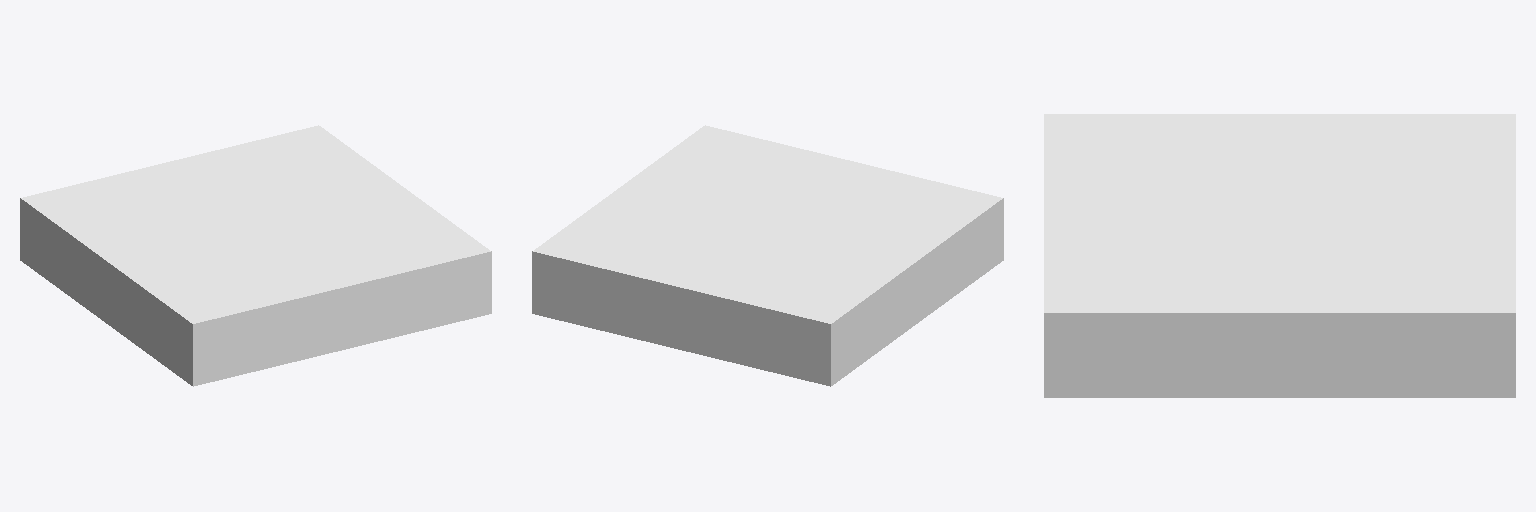
The robot description file, URDF, robot "plane":
<?xml version="1.0" ?>
<robot name="plane">
  <link name="planeLink">
  <contact>
      <lateral_friction value="1"/>
  </contact>
    <inertial>
      <origin rpy="0 0 0" xyz="0 0 0"/>
       <mass value=".0"/>
       <inertia ixx="0" ixy="0" ixz="0" iyy="0" iyz="0" izz="0"/>
    </inertial>
    <visual>
      <origin rpy="0 0 0" xyz="0 0 -0.5"/>
<!--      <geometry>-->
<!--				<mesh filename="plane.obj" scale="1 1 1"/>-->
<!--      </geometry>-->
        <geometry>
            <box size="5 5 1"/>
        </geometry>
       <material name="white">
        <color rgba="1 1 1 1"/>
      </material>
    </visual>
    <collision>
      <origin rpy="0 0 0" xyz="0 0 -0.5"/>
      <geometry>
	 	<box size="5 5 1"/>
      </geometry>
    </collision>
  </link>
</robot>

--- Facts derived from the render (not from the file) ---
3 views of the same robot in one strip: view 1: azimuth 30°, elevation 25°; view 2: azimuth 150°, elevation 25°; view 3: azimuth 270°, elevation 25° (orthographic).
Robot: plane — 1 links, 0 joints (none); root link planeLink; default pose: every joint at zero.
Visible links, largest first — view 1: planeLink; view 2: planeLink; view 3: planeLink.
Link boxes in pixels (bbox=[...]): planeLink: bbox=[20, 125, 491, 386]; planeLink: bbox=[532, 125, 1003, 386]; planeLink: bbox=[1044, 114, 1515, 397].
Bounding box of the posed robot: 5 × 5 × 1 m (x, y, z).
Geometry: primitives only (box / cylinder / sphere), no mesh files.